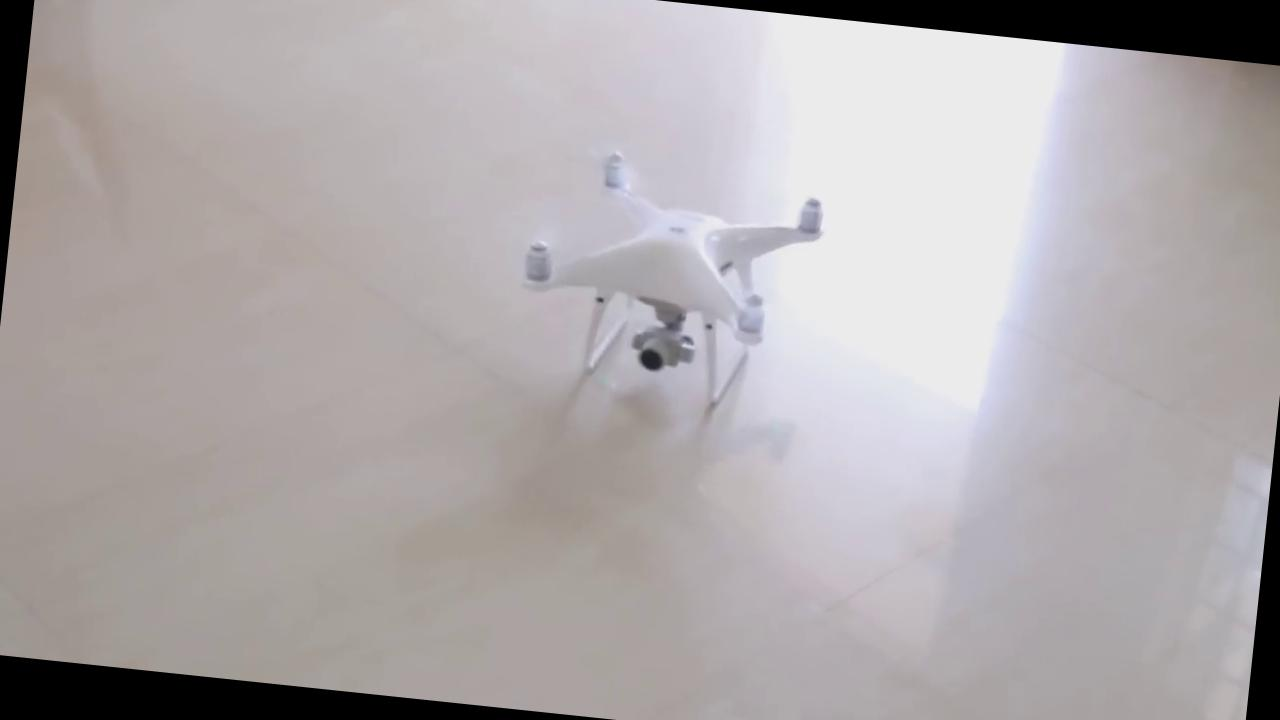drone: (502, 129, 848, 350)
